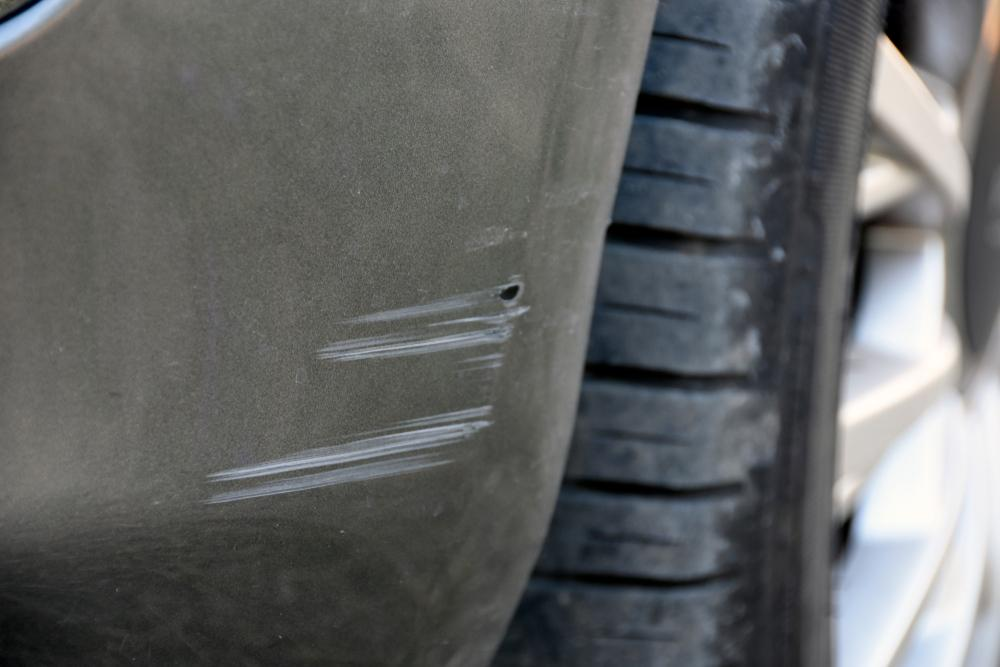scratch: (193, 205, 550, 506)
